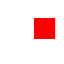square: (34, 18, 54, 38)
